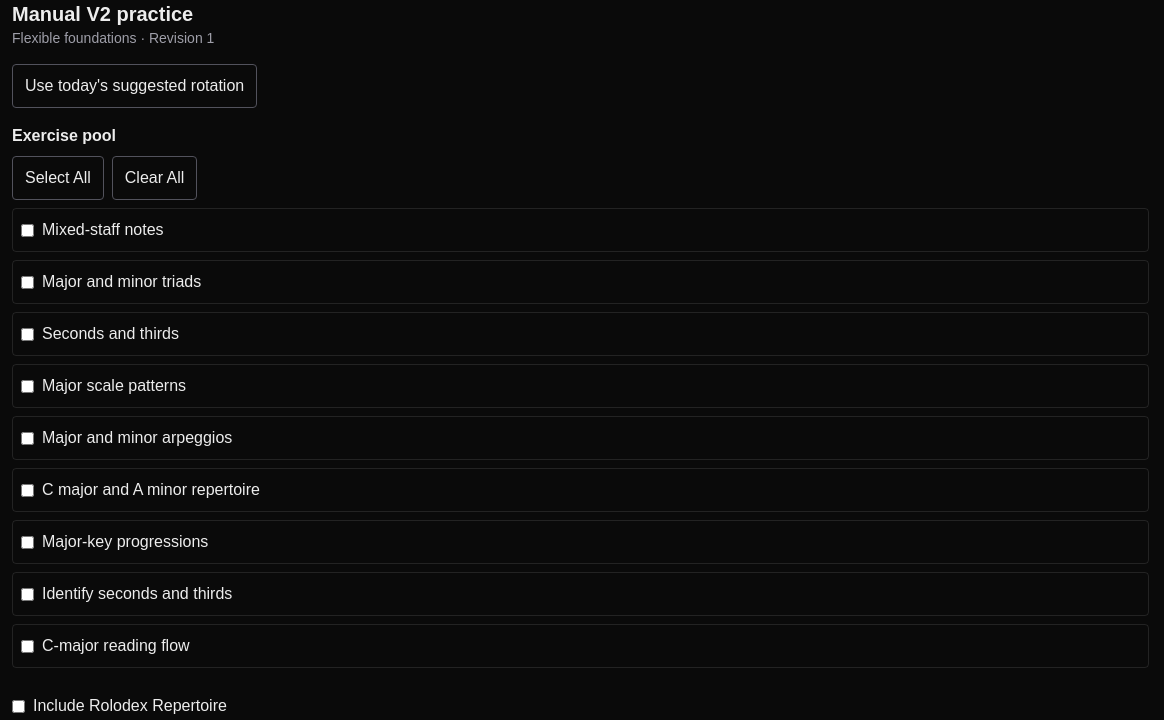
weekly daily selection and native attempts › Select All uses authored order without opting into repertoire; Clear All prevents preparation
Click the checkbox labelled "Seconds and thirds". click: (28, 334)
box: left=21, top=328, right=34, bottom=340
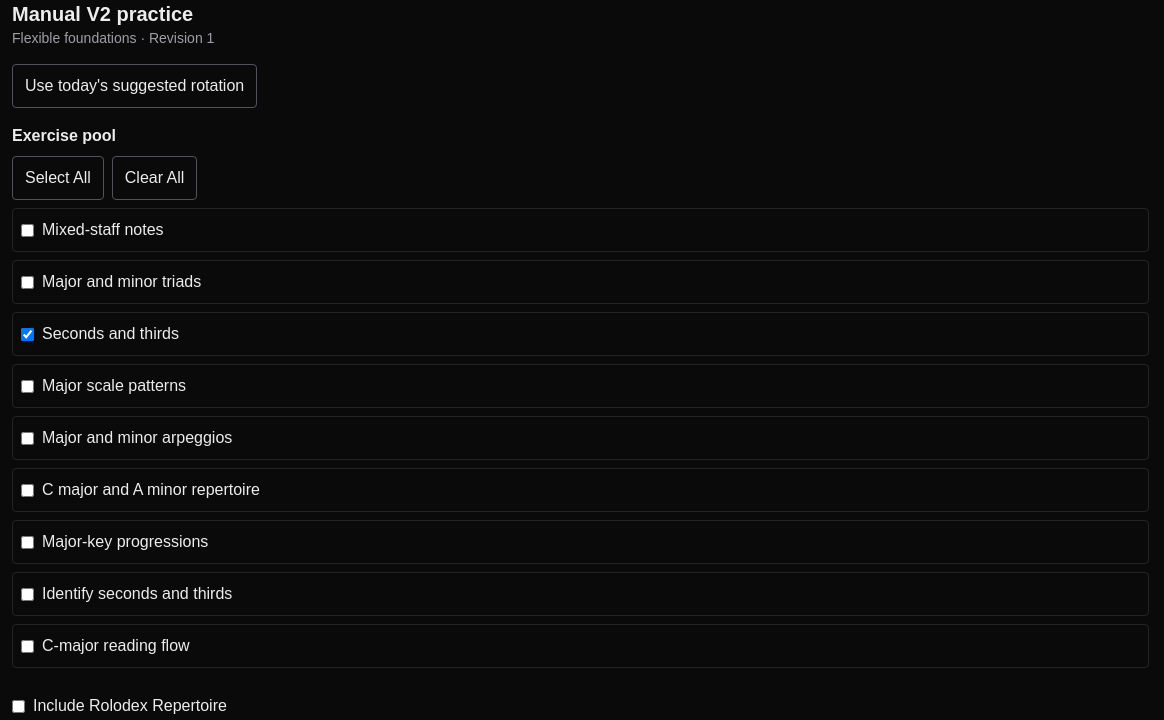
Click the button "Select All". click: (58, 178)
box: left=12, top=156, right=104, bottom=200
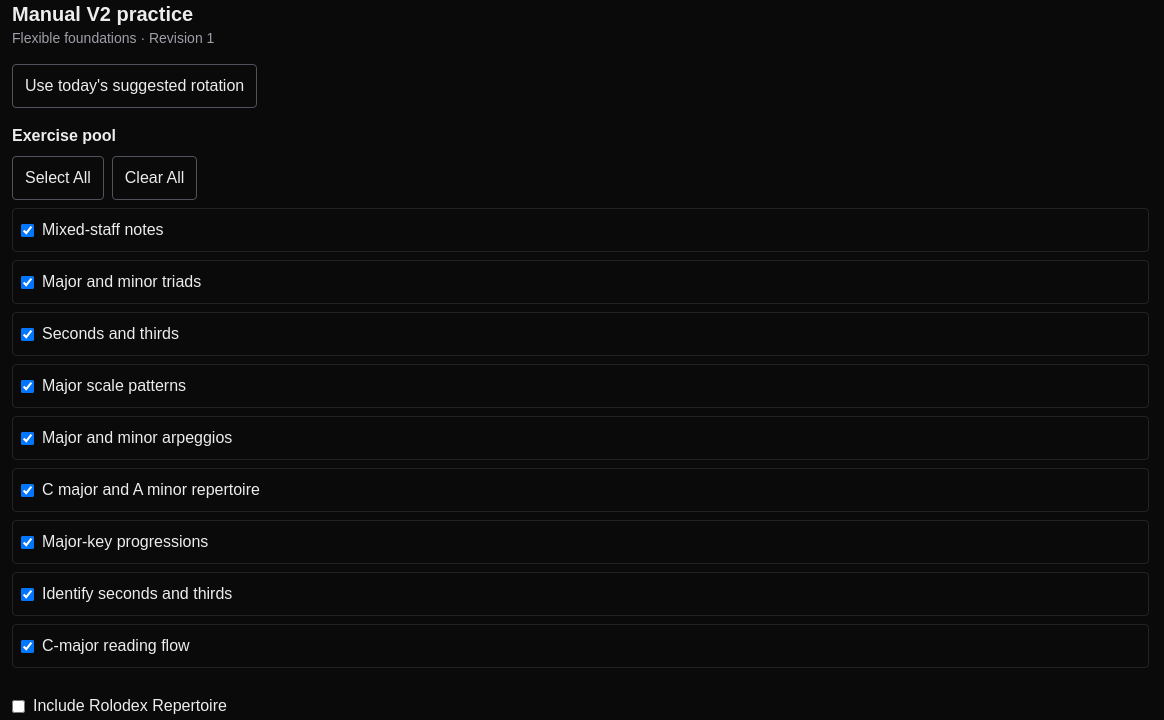
Expected: the checkbox labelled "Include Rolodex Repertoire" is not checked, left=12, top=700, right=25, bottom=712
Click the button "Clear All". click: (155, 178)
box: left=112, top=156, right=197, bottom=200
(page scrolled)
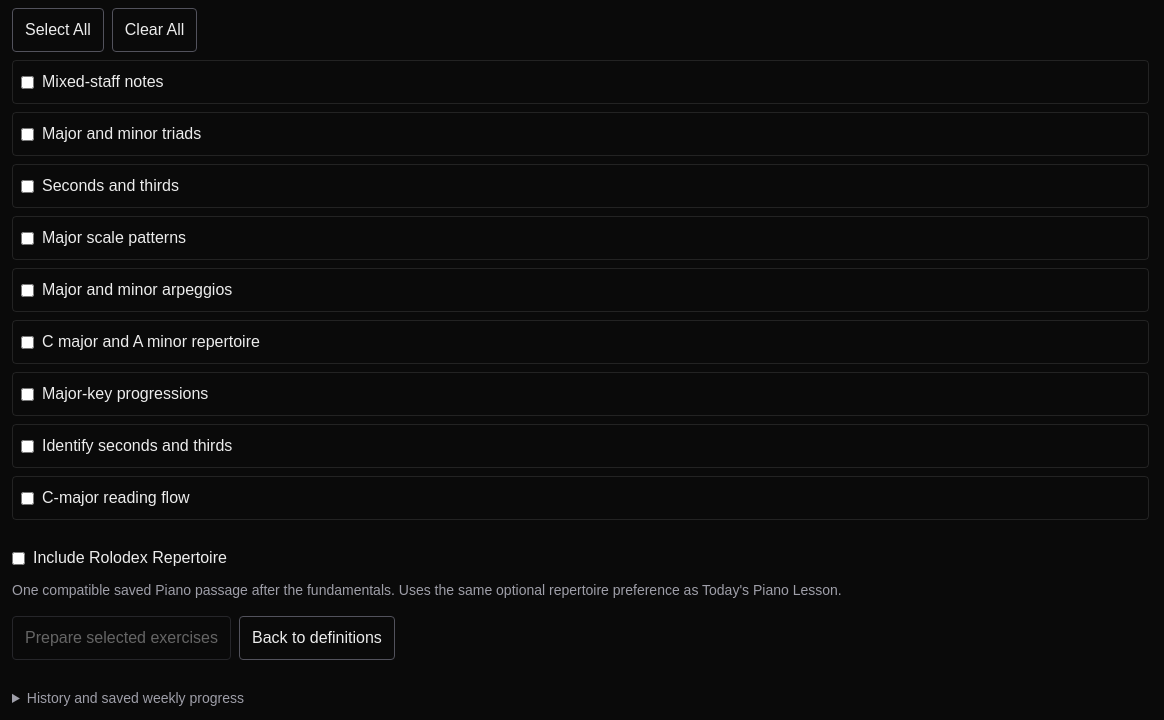
Now the button "Prepare selected exercises" is disabled, box left=12, top=616, right=231, bottom=660
